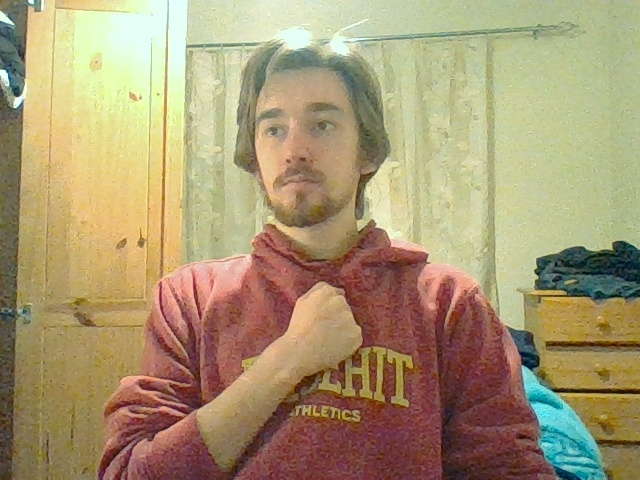my: (291, 281, 363, 371)
